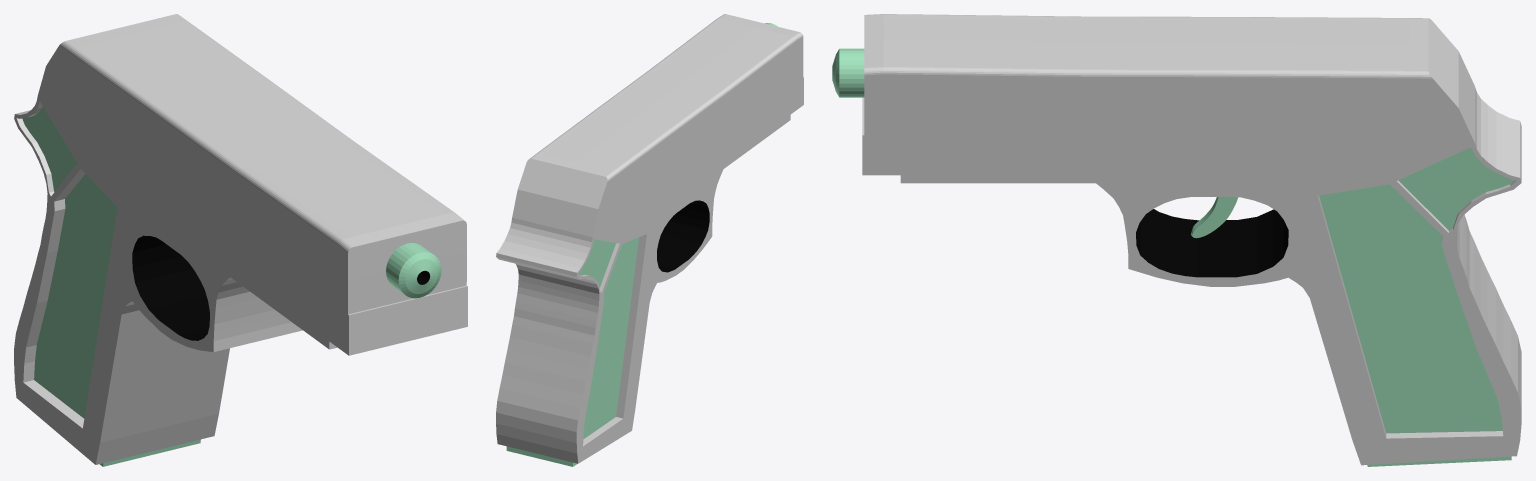
The model's file is glock18.fbx.
3 renders of one model, left to right at view 1: azimuth 30°, elevation 25°; view 2: azimuth 150°, elevation 25°; view 3: azimuth 270°, elevation 25°, orthographic. The views are drawn at different scales.
Parts seen in each view (by area): view 1: Cube.002, Cube, Cube.001, Cylinder; view 2: Cube, Cube.002, Cube.001; view 3: Cube.002, Cube, Cube.001, Cylinder, Plane.
Part boxes in pixels (x1,y1,x2,y2): Cube.002: [38, 14, 466, 314]; Cube: [14, 96, 467, 464]; Cube.001: [34, 174, 200, 466]; Cylinder: [386, 243, 441, 298]; Cube: [496, 77, 803, 463]; Cube.002: [512, 14, 803, 237]; Cube.001: [506, 237, 638, 466]; Cube.002: [864, 14, 1474, 142]; Cube: [862, 87, 1521, 465]; Cube.001: [1319, 184, 1511, 466]; Cylinder: [832, 48, 864, 97]; Plane: [1191, 197, 1237, 238].
Bounding box in the file's own units: 95.78 × 315 × 488.
